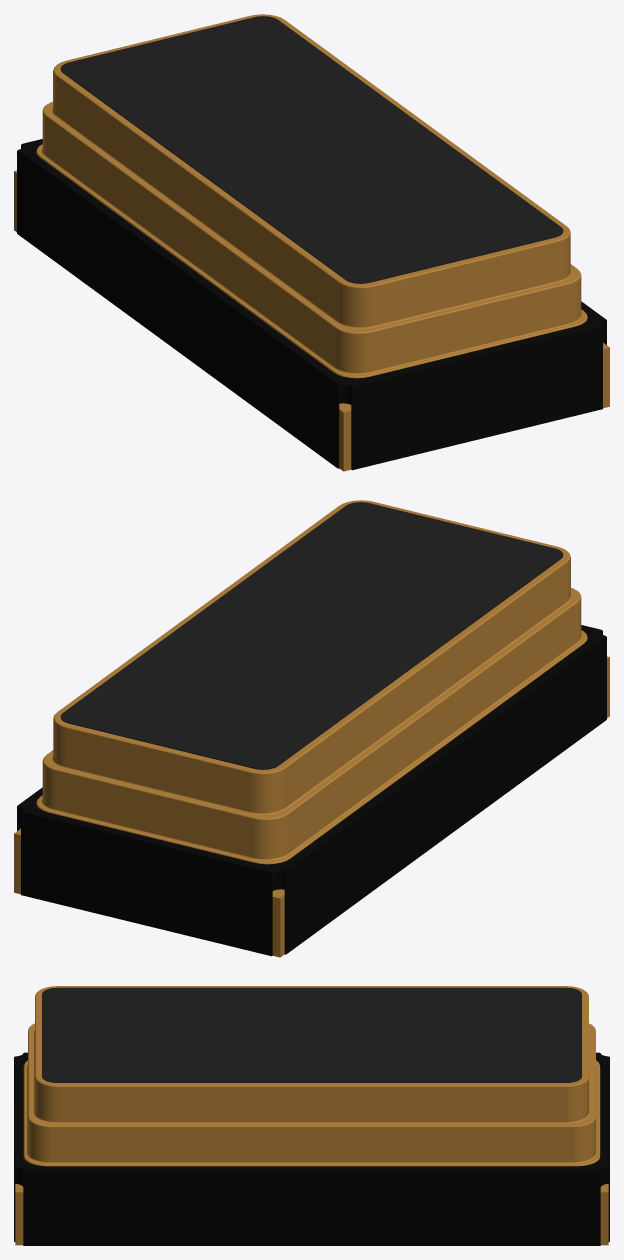
The model's file is Y1_Crystal_SMD_3215-2Pin_3.2x1.5mm.obj.
3 renders of one model, top to bottom at view 1: azimuth 30°, elevation 25°; view 2: azimuth 150°, elevation 25°; view 3: azimuth 270°, elevation 25°, orthographic. The views are drawn at different scales.
Parts seen in each view (by area): view 1: Y1; view 2: Y1; view 3: Y1.
Part boxes in pixels (x1,y1,x2,y2): Y1: (14, 14, 609, 471); Y1: (14, 500, 609, 957); Y1: (14, 986, 609, 1245).
Size of the model in its own units: 0.015 by 0.0093 by 0.032.
